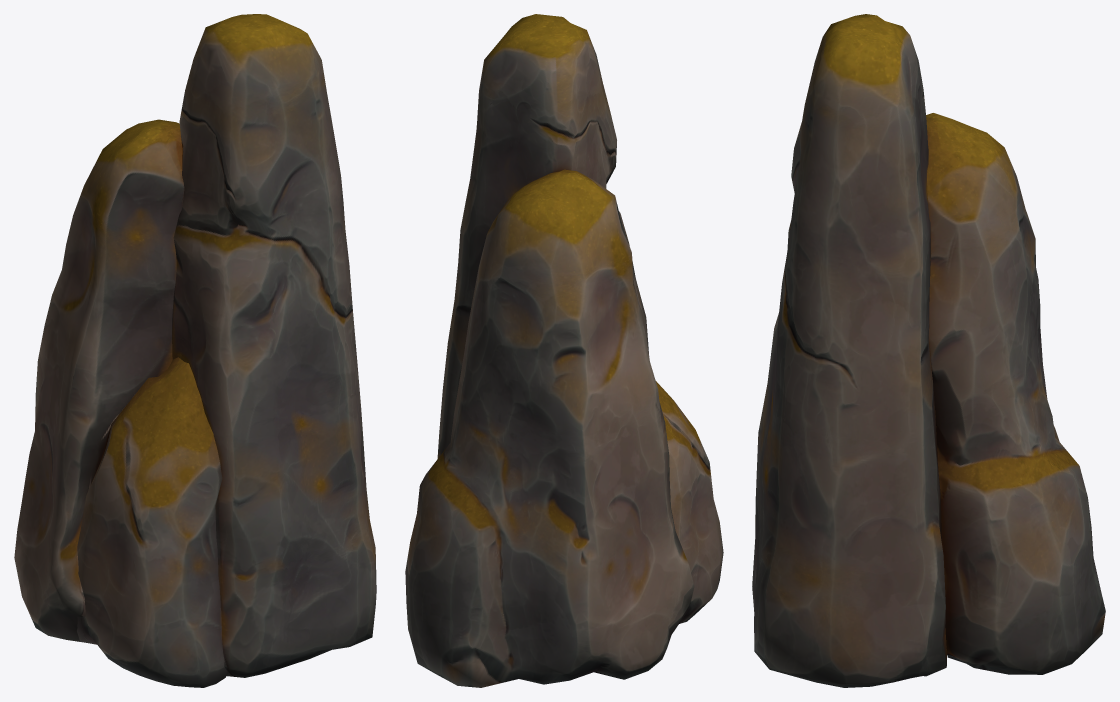
Rendered from SM_Rock_03.glb.
The picture shows the model from 3 angles, left to right: view 1: azimuth 30°, elevation 25°; view 2: azimuth 150°, elevation 25°; view 3: azimuth 270°, elevation 25°; orthographic projection. The views are drawn at different scales.
Visible parts, largest first — view 1: SM_Rock_03; view 2: SM_Rock_03; view 3: SM_Rock_03.
Part boxes in pixels (bbox=[...]): SM_Rock_03: bbox=[14, 14, 376, 687]; SM_Rock_03: bbox=[405, 14, 723, 687]; SM_Rock_03: bbox=[752, 14, 1105, 687].
Bounding box in the file's own units: 4.03 × 8.42 × 4.34.
1 material, 1 textured.
